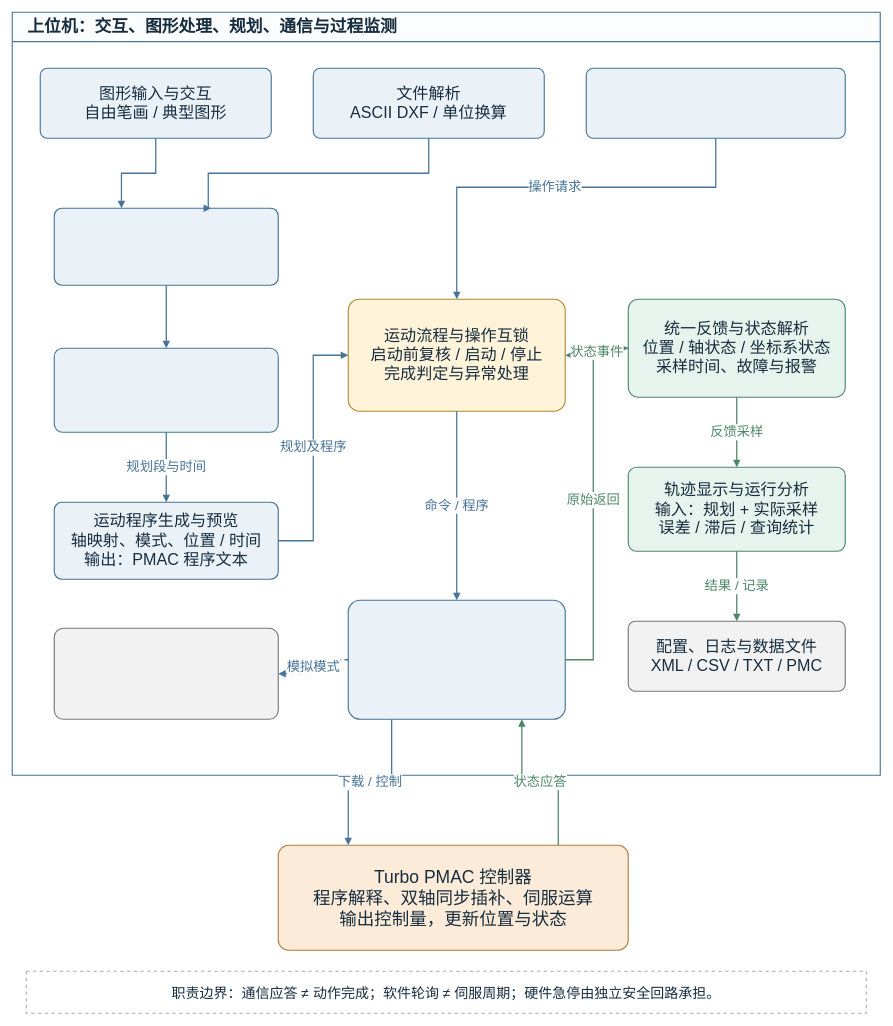
This 893x1026 diagram has some shape labels left out. The centre of each missing label's shape, as x and y in pixels:
"手动调试与设备配置 点动 / 定位 / 回零 / 标定" belongs at point (715, 102).
"控制会话与串行 STA 队列 IControllerSession 实机：PcommServer COM" belongs at point (456, 659).
"模拟传输（已实现） 执行数学规划模型 不解释任意程序 / PLC" belongs at point (165, 673).
"轨迹处理 校验、变换、重采样 输出：DrawingPath" belongs at point (165, 246).
"速度与时间规划 PVT / SPLINE1、约束检查 输出：MotionPlan" belongs at point (165, 389).
